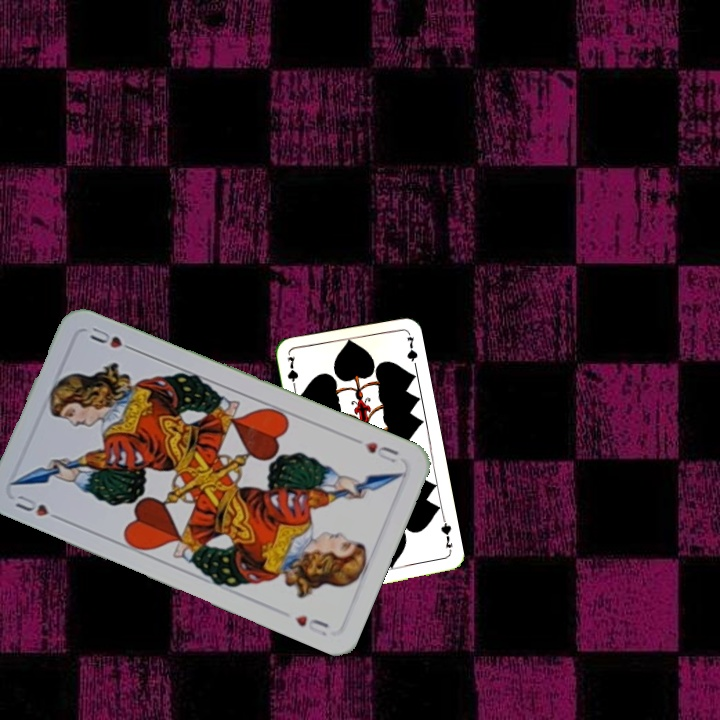G7: (283, 352, 301, 393), (437, 515, 455, 551)
HU: (11, 490, 66, 524), (350, 434, 401, 466)
